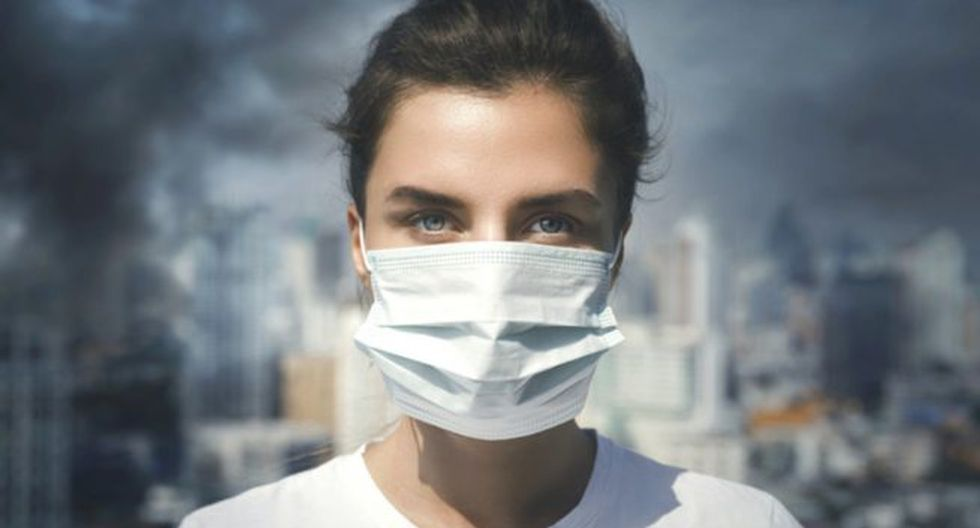with_mask: (323, 41, 664, 464)
